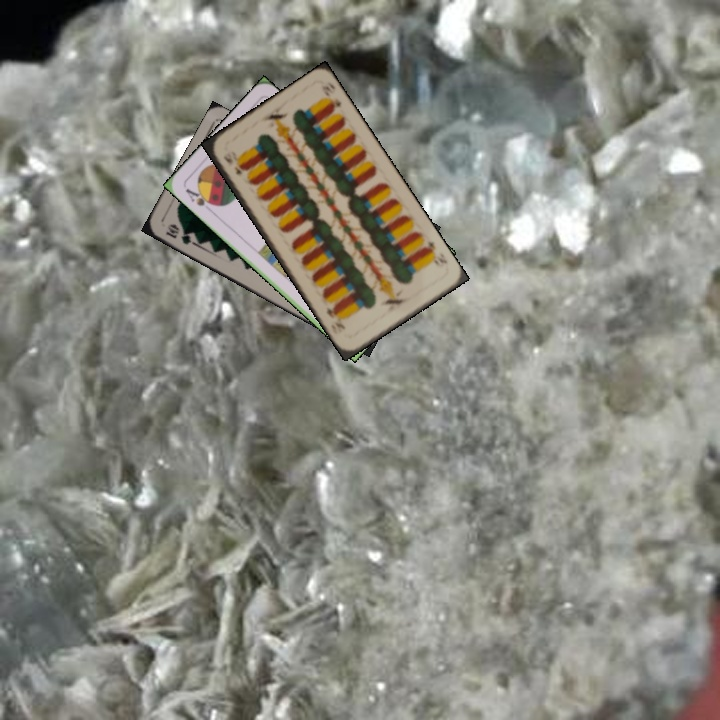E10: (420, 237, 450, 270), (219, 148, 246, 177)
G10: (162, 220, 197, 247)
SA: (181, 184, 218, 209)
